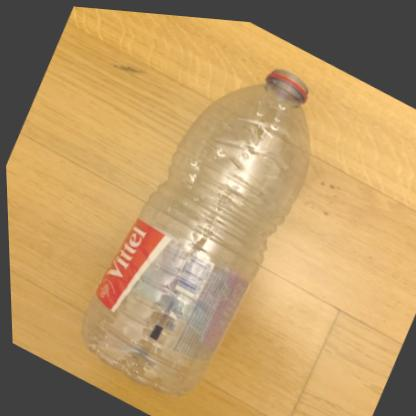Plastic: (78, 64, 309, 391)
